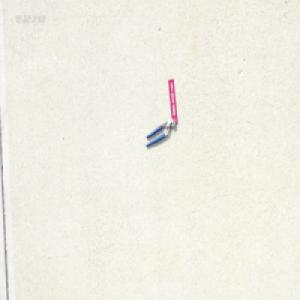Label: (167, 77, 178, 123)
Pliers: (145, 117, 176, 148)
